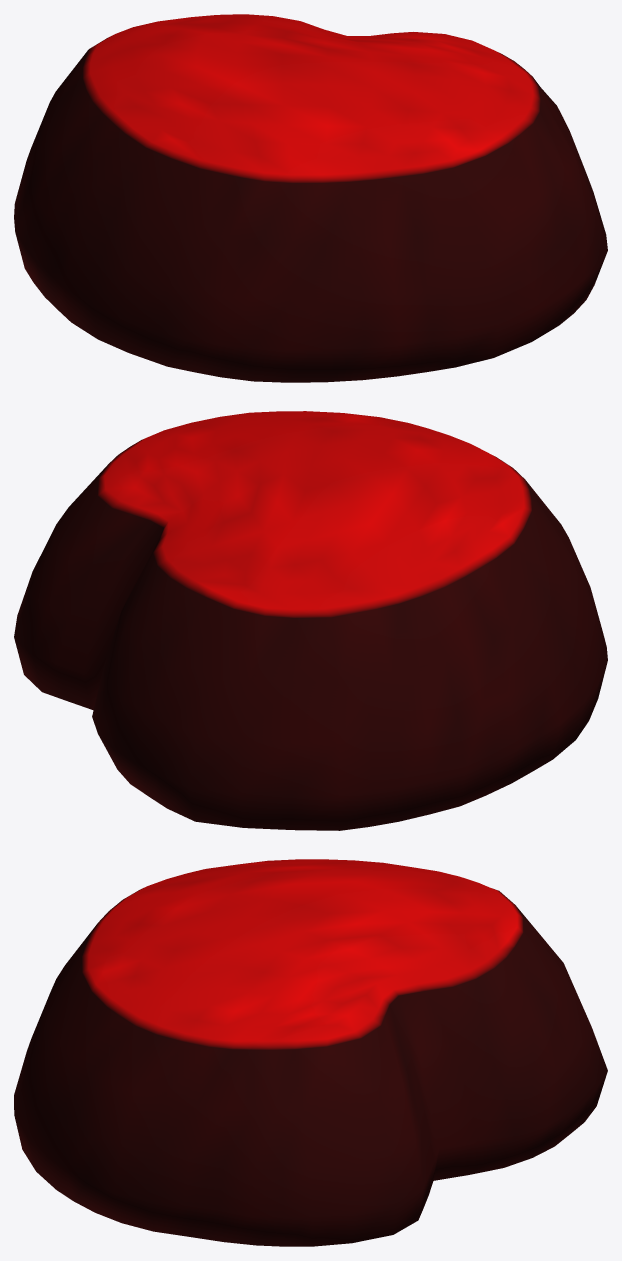
Rendered from geology-landforms-icehillmedium_v2.fbx.
3 views of the same model, one above another, from view 1: azimuth 30°, elevation 25°; view 2: azimuth 150°, elevation 25°; view 3: azimuth 270°, elevation 25° (orthographic). The views are drawn at different scales.
Parts seen in each view (by area): view 1: IceHillMedium_v2; view 2: IceHillMedium_v2; view 3: IceHillMedium_v2.
Boxes of the visible parts, <box> form: IceHillMedium_v2: <box>14,14,607,382</box>; IceHillMedium_v2: <box>14,411,607,830</box>; IceHillMedium_v2: <box>14,859,607,1246</box>.
Bounding box in the file's own units: 61.53 × 24.47 × 63.25.
